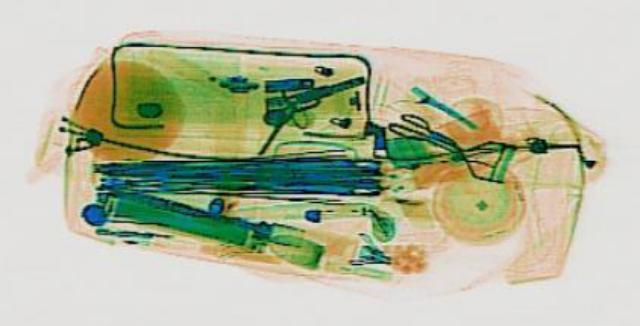Scissors: (373, 108, 472, 152)
